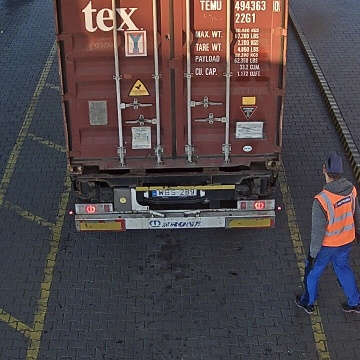serial_id: (200, 0, 280, 10)
